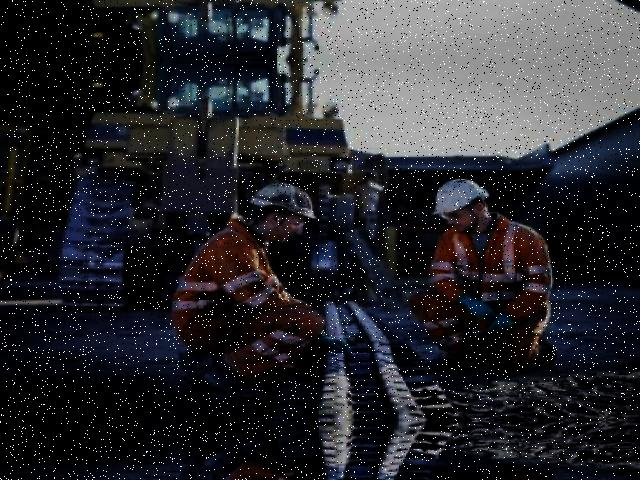Helmet: (246, 177, 322, 225), (428, 172, 497, 222)
